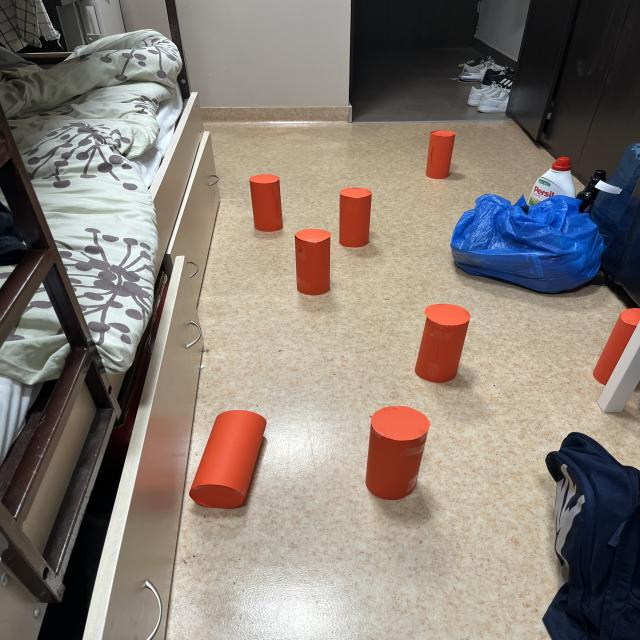przeszkoda: (189, 411, 264, 508), (366, 406, 430, 500), (415, 304, 470, 383), (295, 229, 331, 295), (250, 174, 283, 232), (339, 188, 371, 247), (426, 131, 455, 179)
